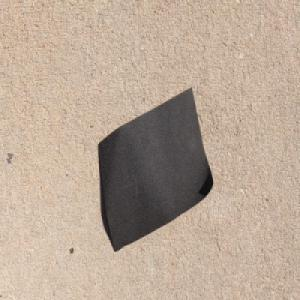PaintChip: (96, 85, 213, 254)
